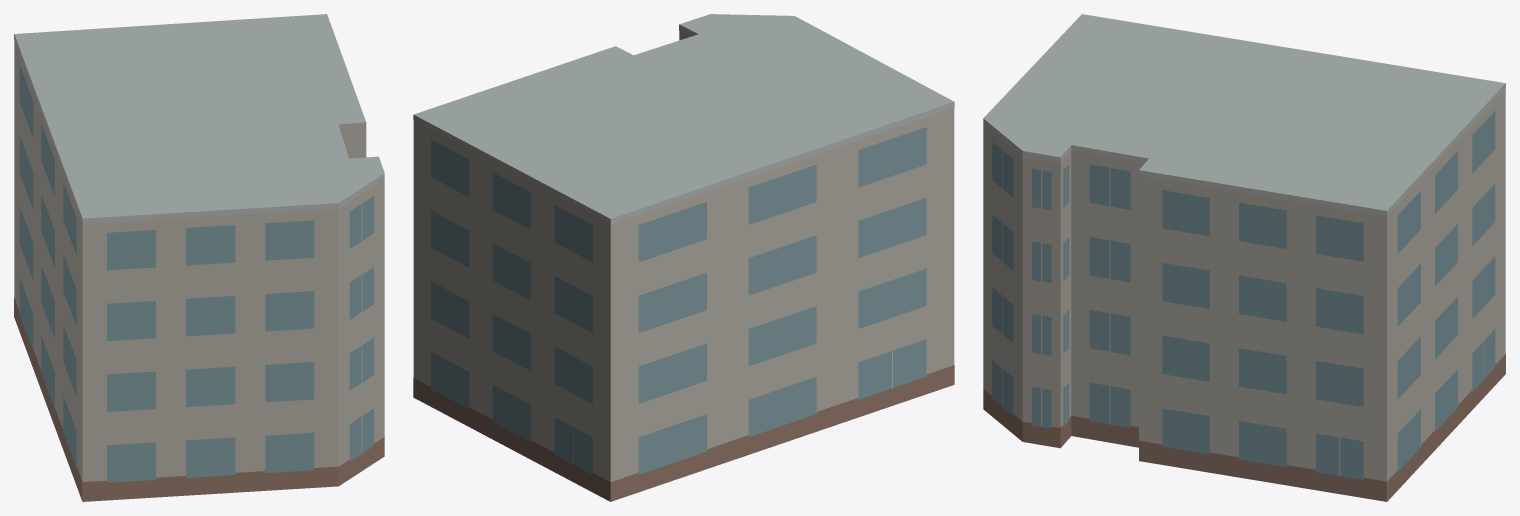
File: survey-upis-32880060.glb
The picture shows the model from 3 angles, left to right: view 1: azimuth 30°, elevation 25°; view 2: azimuth 150°, elevation 25°; view 3: azimuth 270°, elevation 25°; orthographic projection. The views are drawn at different scales.
Visible parts, largest first — view 1: survey-upis-32880060.tmp; view 2: survey-upis-32880060.tmp; view 3: survey-upis-32880060.tmp.
Boxes of the visible parts, <box> form: survey-upis-32880060.tmp: <box>14,14,384,501</box>; survey-upis-32880060.tmp: <box>413,14,954,501</box>; survey-upis-32880060.tmp: <box>983,14,1505,501</box>.
Size of the model in its own units: 17.14 by 11.8 by 19.21.
